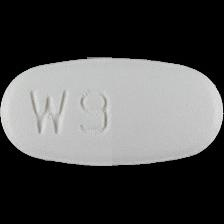33261-631: (0, 0, 224, 224)
